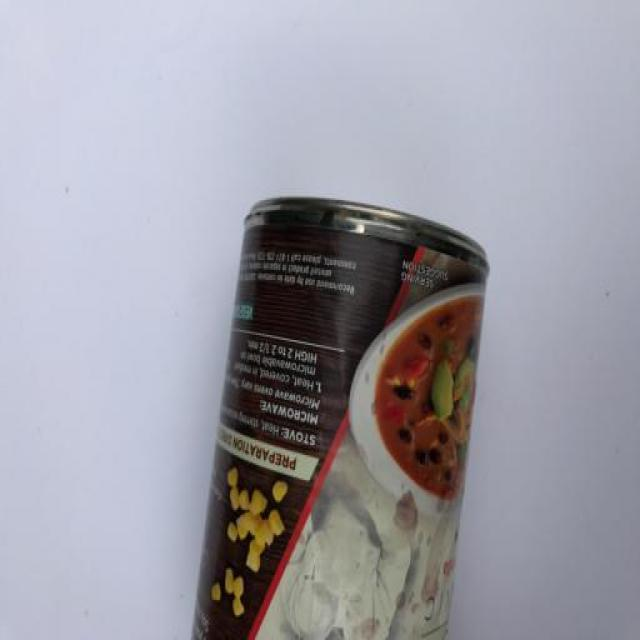metel: (143, 146, 578, 640)
